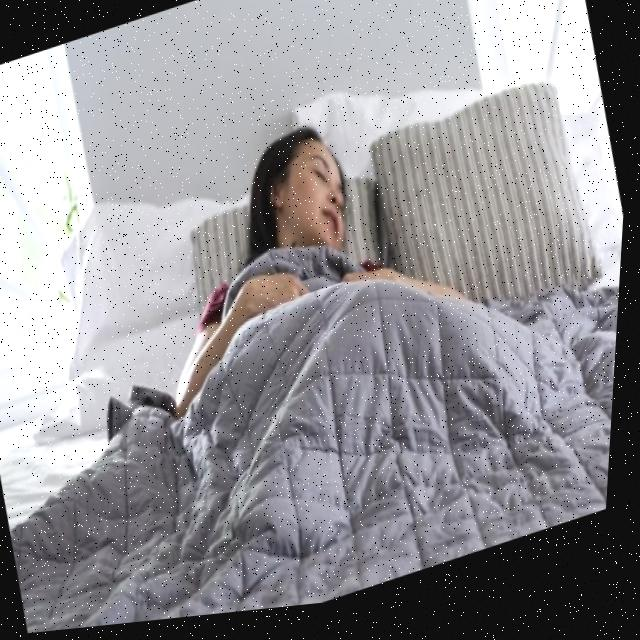sleeping-person: (89, 51, 567, 630)
